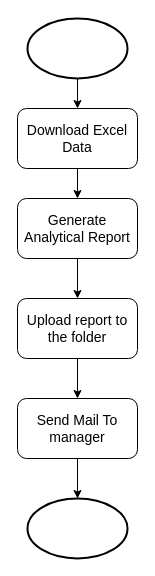
This 155x576 diagram has some shape labels left out. Here are the shapes that lost their labels. From the top down, the box of each, then its label:
(26, 17, 128, 79): Start
(26, 497, 128, 559): End
